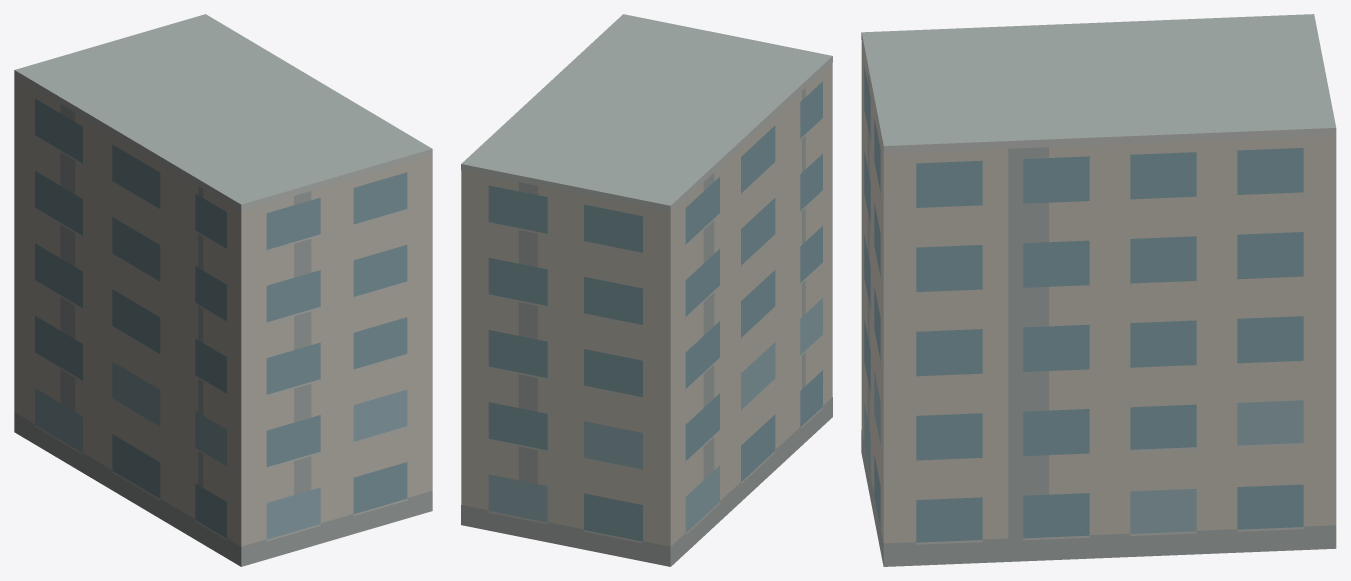
The model's file is survey-upis-32571891.glb.
3 views of the same model, side by side, from view 1: azimuth 30°, elevation 25°; view 2: azimuth 150°, elevation 25°; view 3: azimuth 270°, elevation 25° (orthographic). The views are drawn at different scales.
Visible parts, largest first — view 1: survey-upis-32571891.tmp; view 2: survey-upis-32571891.tmp; view 3: survey-upis-32571891.tmp.
Boxes of the visible parts, box(x1,y1,x2,y2) form: survey-upis-32571891.tmp: box(14, 14, 432, 566); survey-upis-32571891.tmp: box(461, 14, 832, 566); survey-upis-32571891.tmp: box(861, 14, 1336, 566).
Bounding box in the file's own units: 8.92 × 13.25 × 13.55.
